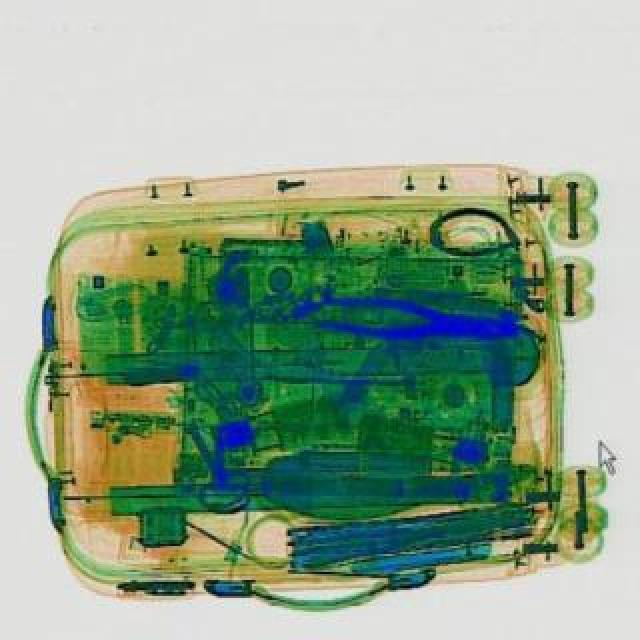wrench: (314, 290, 516, 348)
